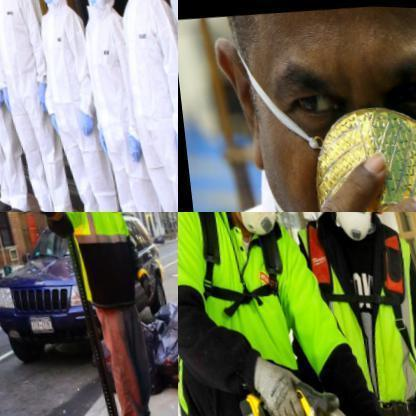vest: (289, 212, 415, 415), (73, 0, 168, 211), (27, 0, 122, 211), (0, 0, 74, 207), (109, 0, 177, 211), (58, 212, 140, 314), (0, 0, 21, 196)
